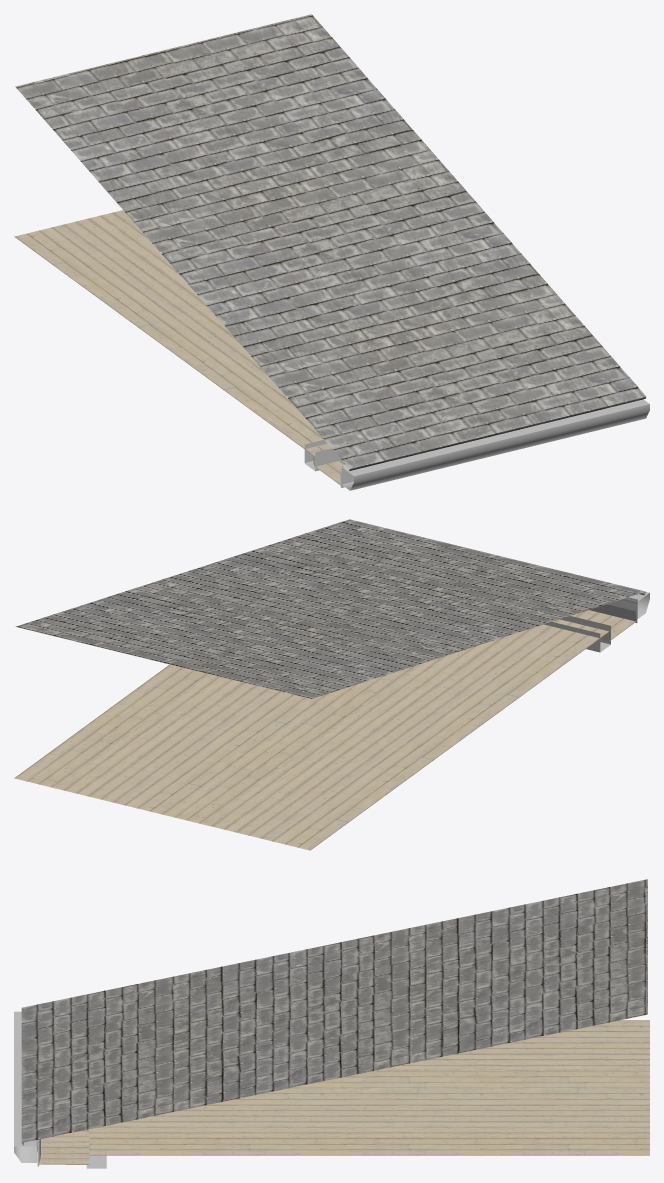
File: Porch_4x.FBX
The picture shows the model from 3 angles, top to bottom: view 1: azimuth 30°, elevation 25°; view 2: azimuth 150°, elevation 25°; view 3: azimuth 270°, elevation 25°; orthographic projection. The views are drawn at different scales.
Parts seen in each view (by area): view 1: Porch_4x; view 2: Porch_4x; view 3: Porch_4x.
Part boxes in pixels (x1,y1,x2,y2): Porch_4x: (14,14,649,490); Porch_4x: (14,519,649,850); Porch_4x: (14,879,649,1168).
Size of the model in its own units: 201 by 107 by 398.
